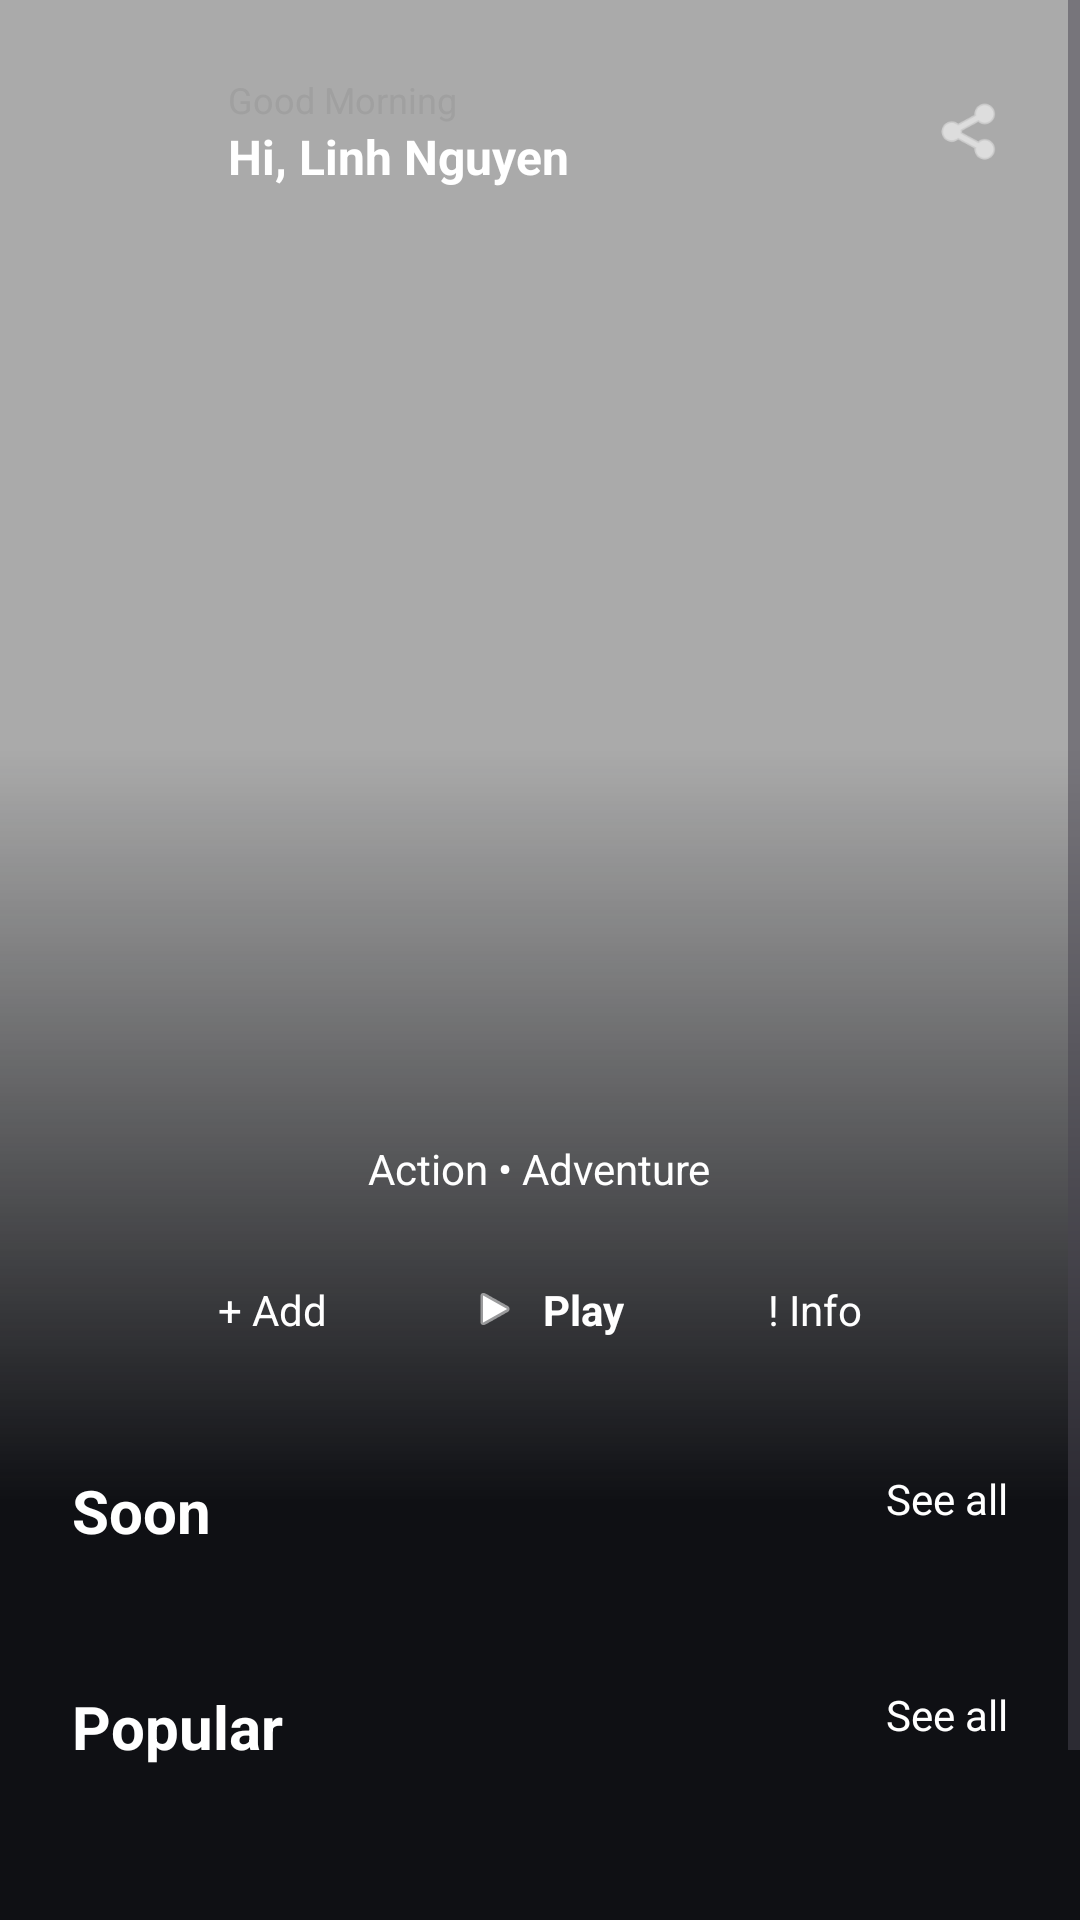

Screen size 1080 x 1920. Icon name, then its center in pixels as [x,y]:
share: [968,131]
